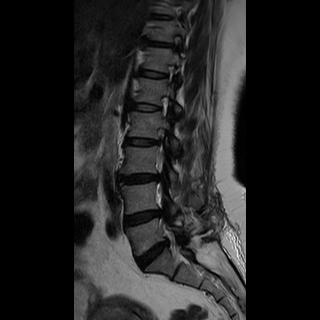RFS0: (148, 90, 176, 121)
